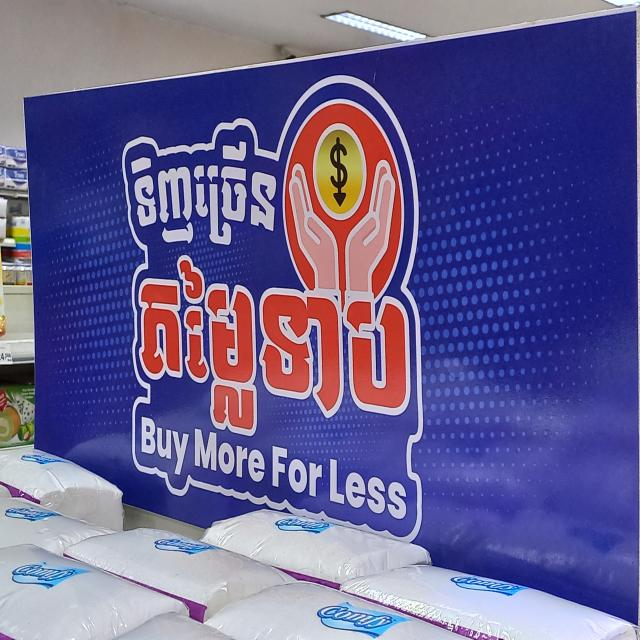Yolov11kh: (138, 256, 414, 437), (122, 125, 276, 257)
